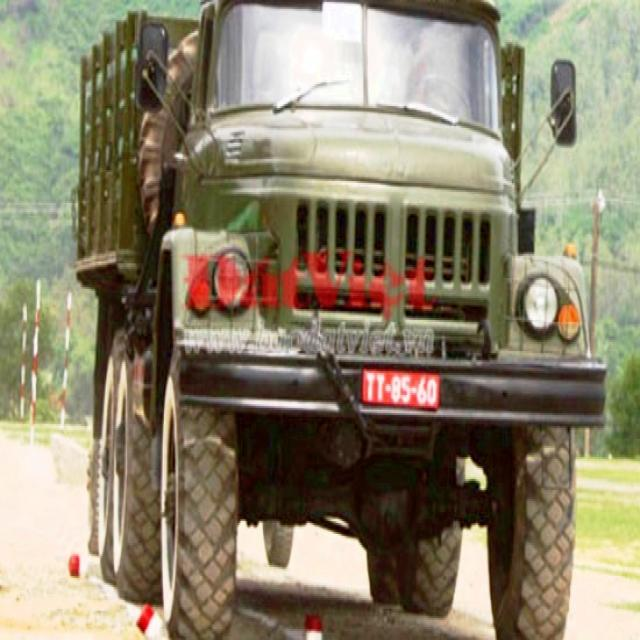license_plate: (363, 367, 441, 410)
